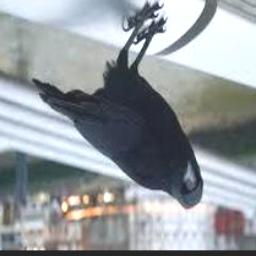Crow: (32, 1, 202, 208)
